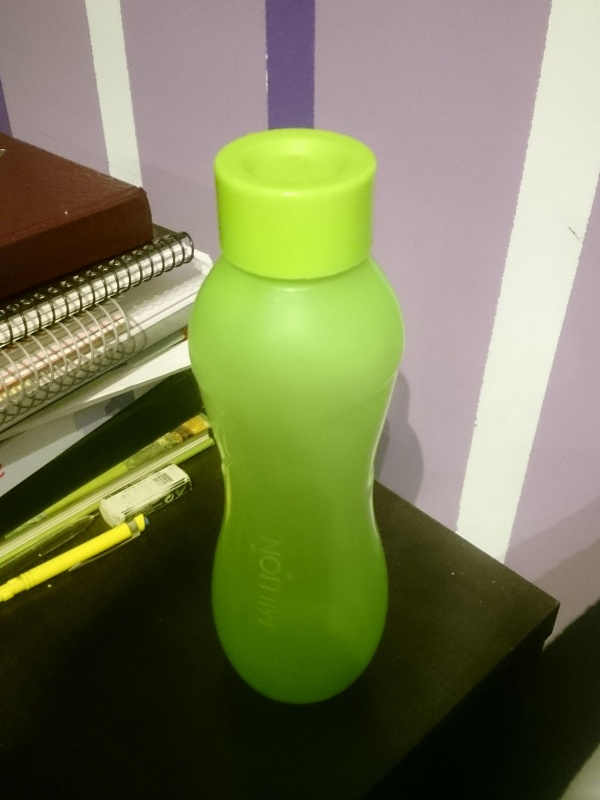my bottle: (189, 130, 406, 704)
